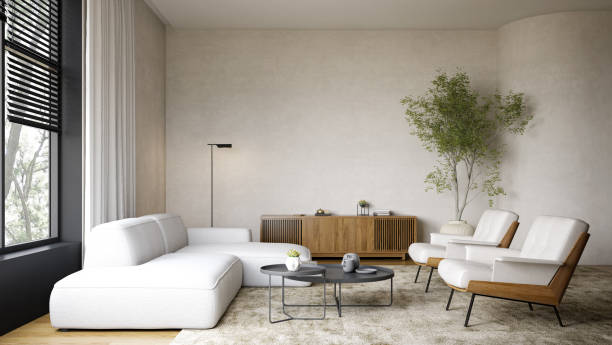chair: (437, 215, 592, 329), (407, 208, 520, 293)
floor lamp: (204, 141, 235, 227)
large plant: (398, 66, 527, 234)
small plant: (284, 248, 303, 271)
sofa: (47, 210, 314, 332)
table: (258, 262, 395, 326)
